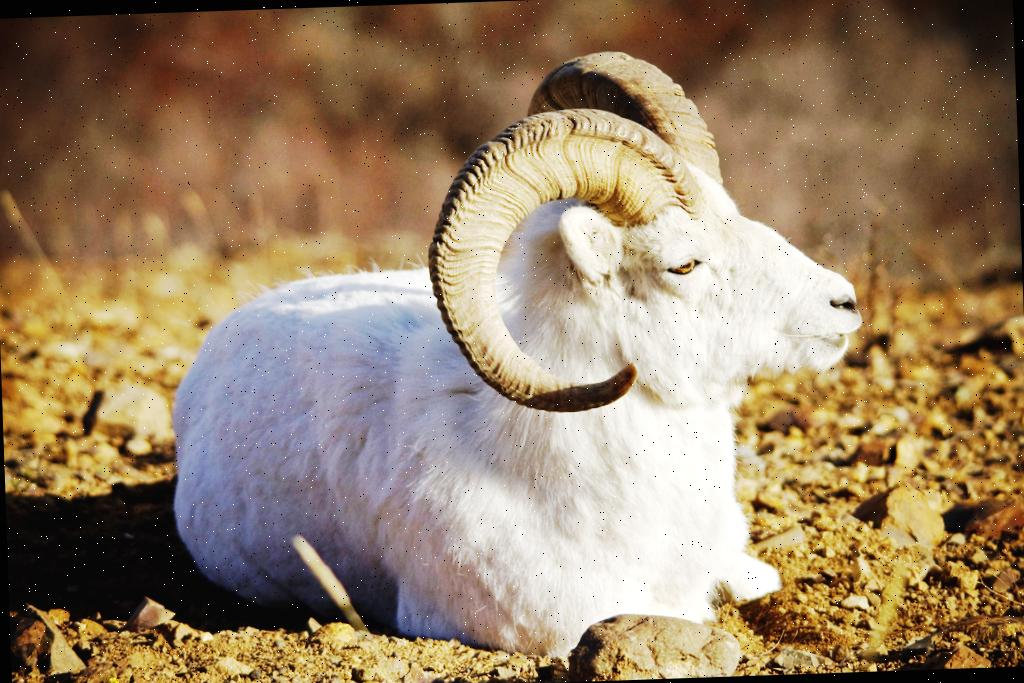Sheep: (146, 39, 884, 683)
